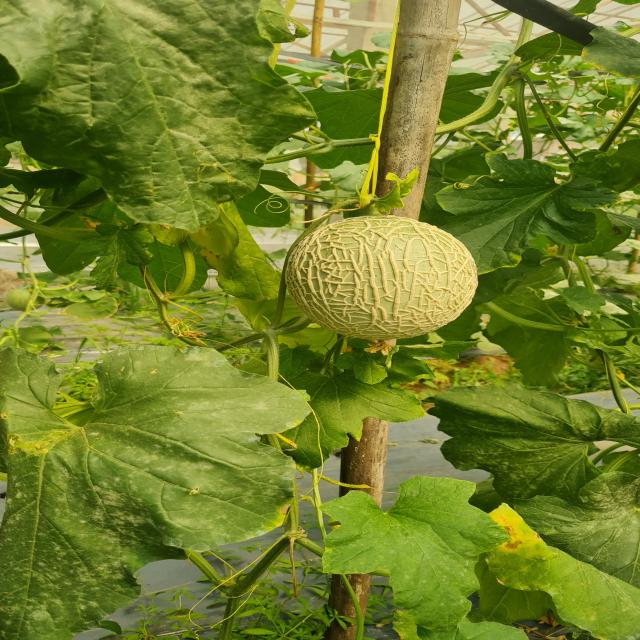melon: (284, 215, 478, 340)
